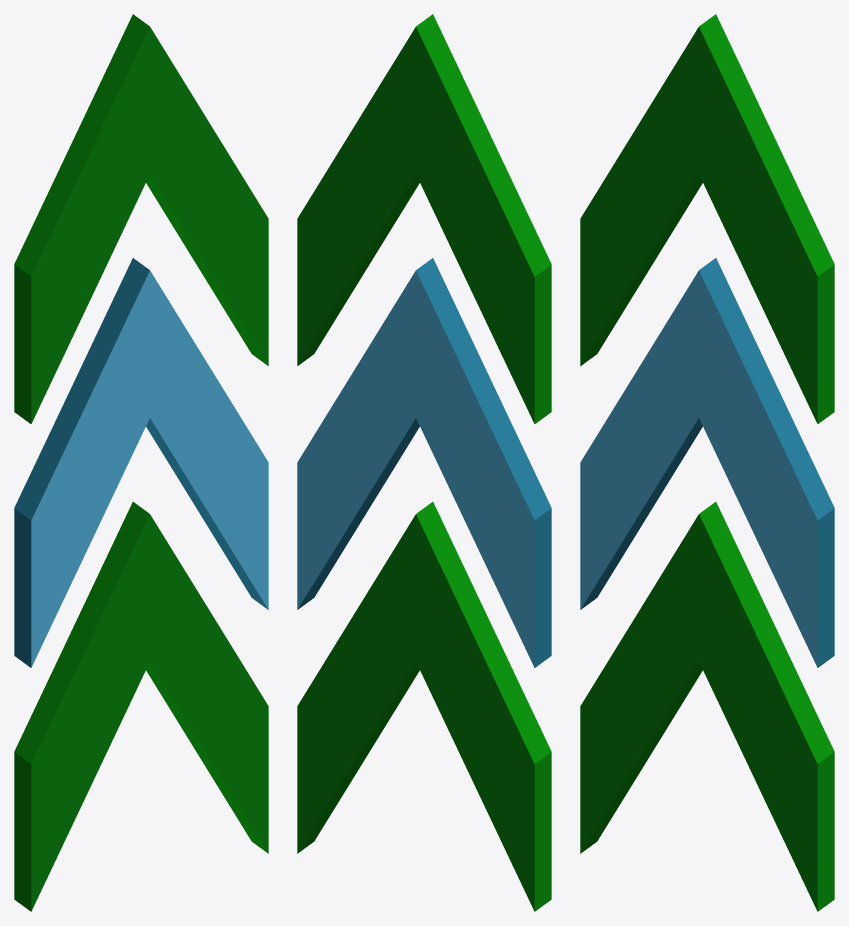
Rendered from Speed Boost 2 Powerup.fbx.
3 renders of one model, left to right at view 1: azimuth 30°, elevation 25°; view 2: azimuth 150°, elevation 25°; view 3: azimuth 330°, elevation 25°, orthographic.
Parts seen in each view (by area): view 1: pCube3, pCube5, pCube4; view 2: pCube3, pCube5, pCube4; view 3: pCube3, pCube5, pCube4.
Boxes of the visible parts, x1,y1,x2,y2 form: pCube3: [14, 502, 268, 911]; pCube5: [14, 14, 268, 423]; pCube4: [14, 258, 268, 667]; pCube3: [297, 502, 551, 911]; pCube5: [297, 14, 551, 423]; pCube4: [297, 258, 551, 667]; pCube3: [580, 502, 834, 911]; pCube5: [580, 14, 834, 423]; pCube4: [580, 258, 834, 667].
Bounding box in the file's own units: 1.05 × 3.6 × 0.1304.
